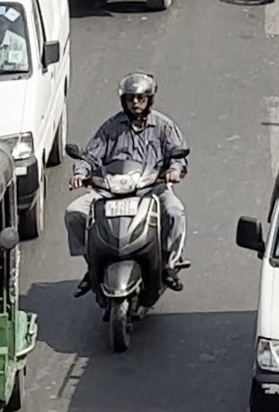BikeWithRider: (61, 68, 194, 355)
Helmet: (116, 70, 159, 118)
